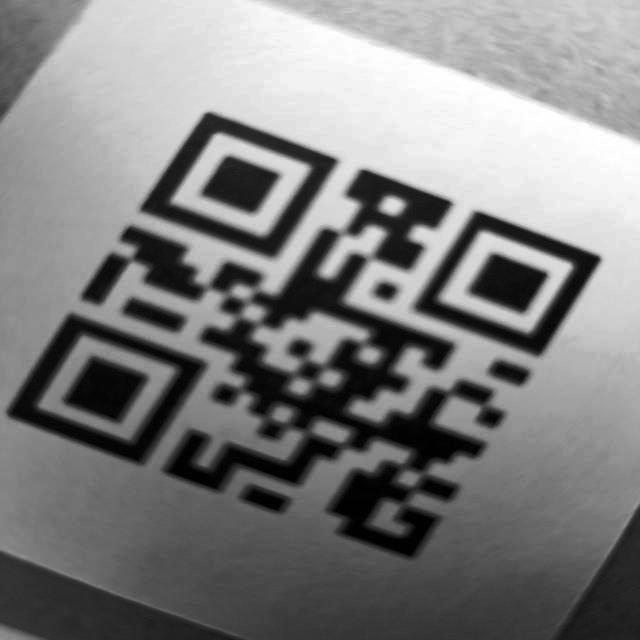qr_code: (2, 62, 621, 581)
